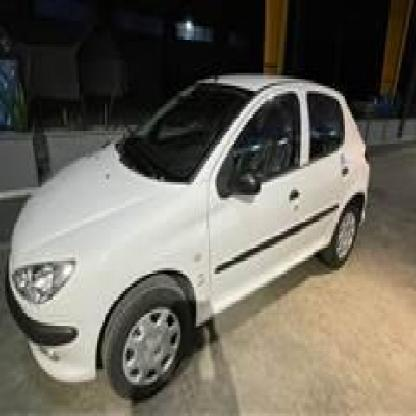Car: (9, 70, 374, 398)
